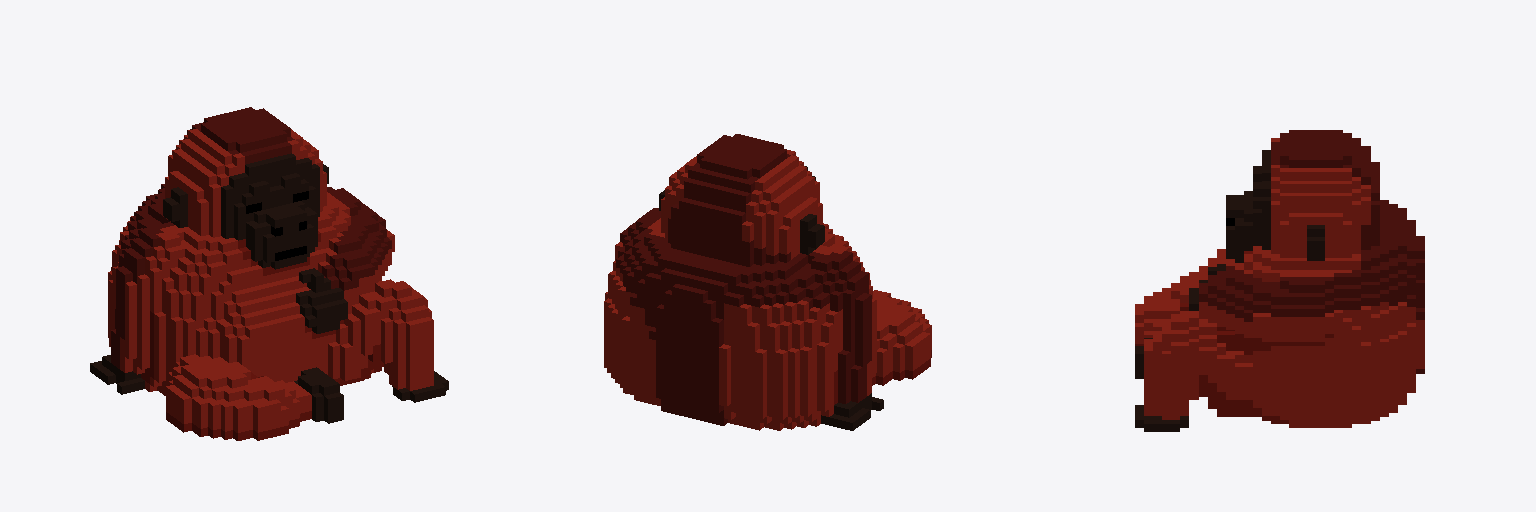
The picture shows the model from 3 angles: view 1: azimuth 30°, elevation 25°; view 2: azimuth 150°, elevation 25°; view 3: azimuth 270°, elevation 25°; orthographic projection.
Visible parts, largest first — view 1: object 1; view 2: object 1; view 3: object 1.
Boxes of the visible parts, x1,y1,x2,y2 form: object 1: [90, 107, 448, 440]; object 1: [604, 134, 931, 430]; object 1: [1135, 130, 1424, 431].
Size of the model in its own units: 3.2 by 2.8 by 3.2.
1 materials, 1 textured.